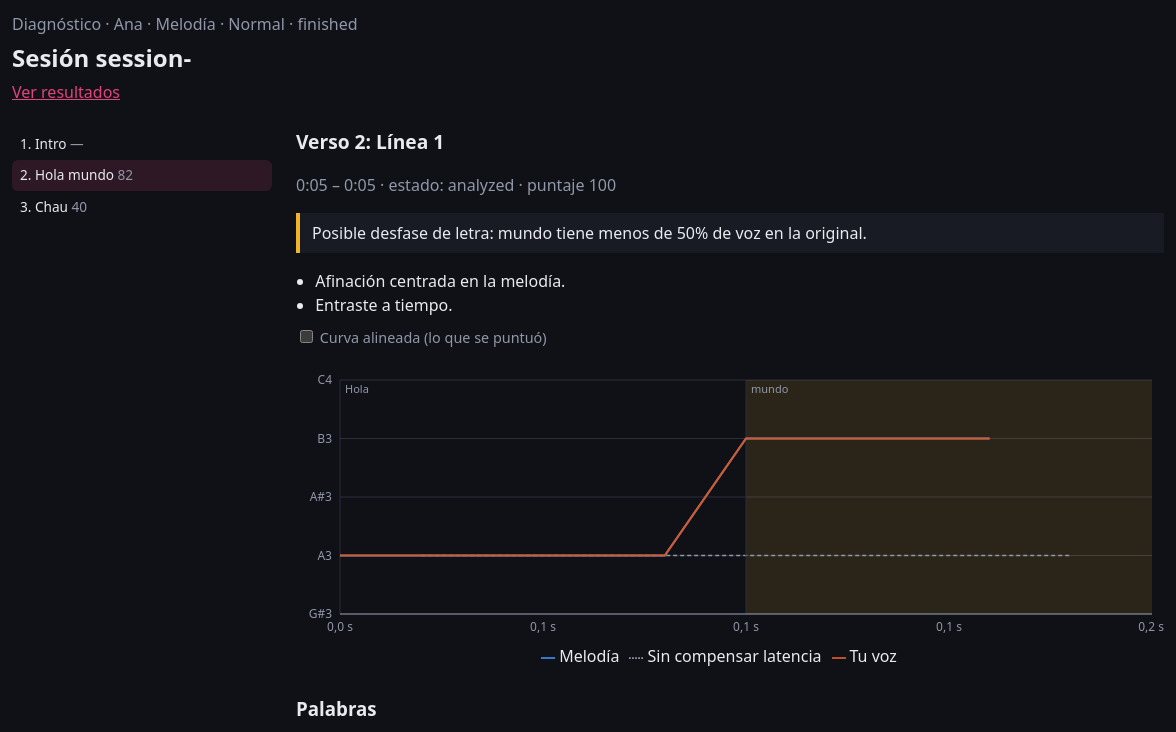
Test: AdminSessionPage › switches between lines
Expected: the heading "Verso 2: Línea 1" is shown, [296,128,444,155]
Click the button "3. Chau 40".
click(52, 206)  # box [12,191,272,223]
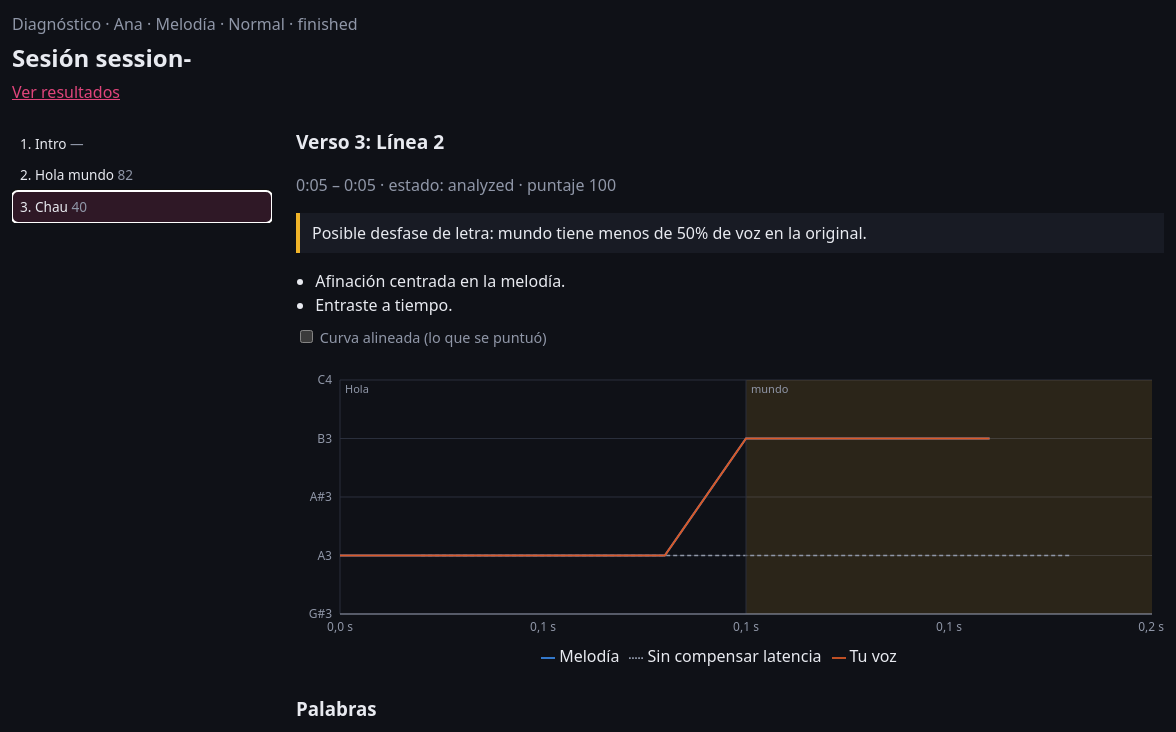
Expected: the heading "Verso 3: Línea 2" is shown, [296,128,444,155]
